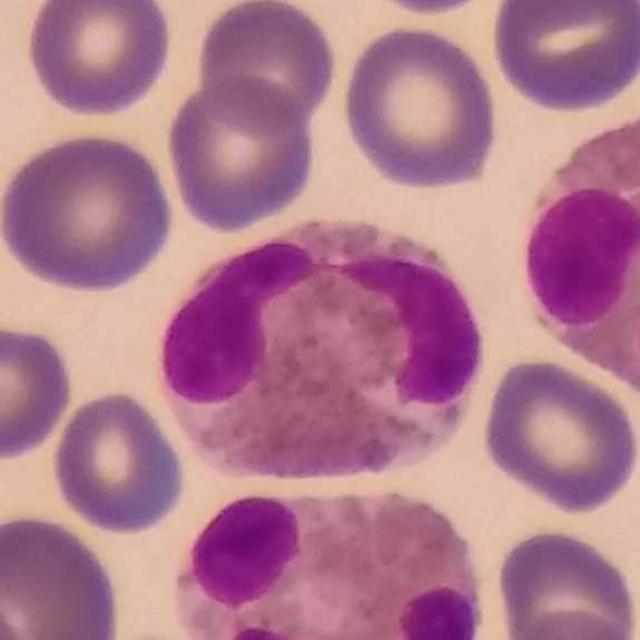eosino: (155, 214, 479, 473), (172, 496, 489, 640), (521, 111, 640, 397)
